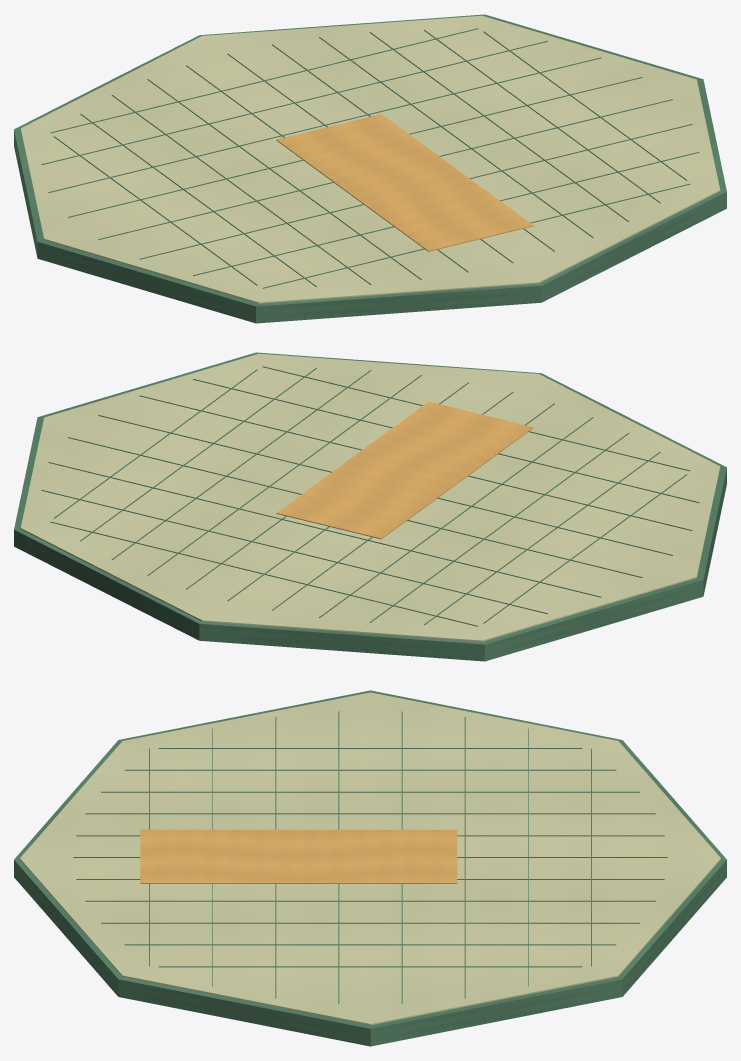
Rendered from atlas100-s005-a07.glb.
3 renders of one model, top to bottom at view 1: azimuth 30°, elevation 25°; view 2: azimuth 150°, elevation 25°; view 3: azimuth 270°, elevation 25°, orthographic. The views are drawn at different scales.
Parts seen in each view (by area): view 1: atlas100-s005-a07:part-001, atlas100-s005-a07:part-000, atlas100-s005-a07:part-021, atlas100-s005-a07:part-015, atlas100-s005-a07:part-014, atlas100-s005-a07:part-017, atlas100-s005-a07:part-016, atlas100-s005-a07:part-018, atlas100-s005-a07:part-013, atlas100-s005-a07:part-019, atlas100-s005-a07:part-005, atlas100-s005-a07:part-009 (+3 smaller); view 2: atlas100-s005-a07:part-001, atlas100-s005-a07:part-000, atlas100-s005-a07:part-021, atlas100-s005-a07:part-015, atlas100-s005-a07:part-014, atlas100-s005-a07:part-016, atlas100-s005-a07:part-017, atlas100-s005-a07:part-018, atlas100-s005-a07:part-013, atlas100-s005-a07:part-019, atlas100-s005-a07:part-009, atlas100-s005-a07:part-005 (+3 smaller); view 3: atlas100-s005-a07:part-001, atlas100-s005-a07:part-000, atlas100-s005-a07:part-021, atlas100-s005-a07:part-005, atlas100-s005-a07:part-009, atlas100-s005-a07:part-010, atlas100-s005-a07:part-004, atlas100-s005-a07:part-003, atlas100-s005-a07:part-011, atlas100-s005-a07:part-012.
Part boxes in pixels (left/top/right/bottom): atlas100-s005-a07:part-001: left=20, top=15, right=720, bottom=303; atlas100-s005-a07:part-000: left=14, top=14, right=726, bottom=323; atlas100-s005-a07:part-021: left=276, top=114, right=533, bottom=251; atlas100-s005-a07:part-015: left=48, top=57, right=601, bottom=192; atlas100-s005-a07:part-014: left=41, top=41, right=547, bottom=164; atlas100-s005-a07:part-017: left=98, top=99, right=672, bottom=239; atlas100-s005-a07:part-016: left=68, top=77, right=642, bottom=217; atlas100-s005-a07:part-018: left=139, top=124, right=692, bottom=259; atlas100-s005-a07:part-013: left=50, top=28, right=478, bottom=133; atlas100-s005-a07:part-019: left=193, top=152, right=699, bottom=275; atlas100-s005-a07:part-005: left=147, top=79, right=421, bottom=279; atlas100-s005-a07:part-009: left=319, top=37, right=593, bottom=237; atlas100-s005-a07:part-001: left=20, top=353, right=720, bottom=641; atlas100-s005-a07:part-000: left=14, top=352, right=726, bottom=661; atlas100-s005-a07:part-021: left=276, top=401, right=533, bottom=539; atlas100-s005-a07:part-015: left=48, top=462, right=601, bottom=597; atlas100-s005-a07:part-014: left=41, top=490, right=547, bottom=613; atlas100-s005-a07:part-016: left=68, top=437, right=642, bottom=577; atlas100-s005-a07:part-017: left=98, top=415, right=672, bottom=555; atlas100-s005-a07:part-018: left=139, top=395, right=692, bottom=530; atlas100-s005-a07:part-013: left=50, top=521, right=478, bottom=626; atlas100-s005-a07:part-019: left=193, top=379, right=699, bottom=502; atlas100-s005-a07:part-009: left=147, top=375, right=421, bottom=575; atlas100-s005-a07:part-005: left=319, top=417, right=593, bottom=617; atlas100-s005-a07:part-001: left=20, top=692, right=720, bottom=1025; atlas100-s005-a07:part-000: left=14, top=690, right=726, bottom=1046; atlas100-s005-a07:part-021: left=140, top=829, right=457, bottom=883; atlas100-s005-a07:part-005: left=85, top=813, right=655, bottom=814; atlas100-s005-a07:part-009: left=85, top=900, right=655, bottom=901; atlas100-s005-a07:part-010: left=101, top=922, right=639, bottom=923; atlas100-s005-a07:part-004: left=101, top=791, right=639, bottom=792; atlas100-s005-a07:part-003: left=124, top=769, right=616, bottom=770; atlas100-s005-a07:part-011: left=124, top=944, right=616, bottom=945; atlas100-s005-a07:part-012: left=158, top=966, right=582, bottom=967.
Bounding box in the file's own units: 13.95 × 0.404 × 12.42.
Materials: 3 (3 with a texture image).
